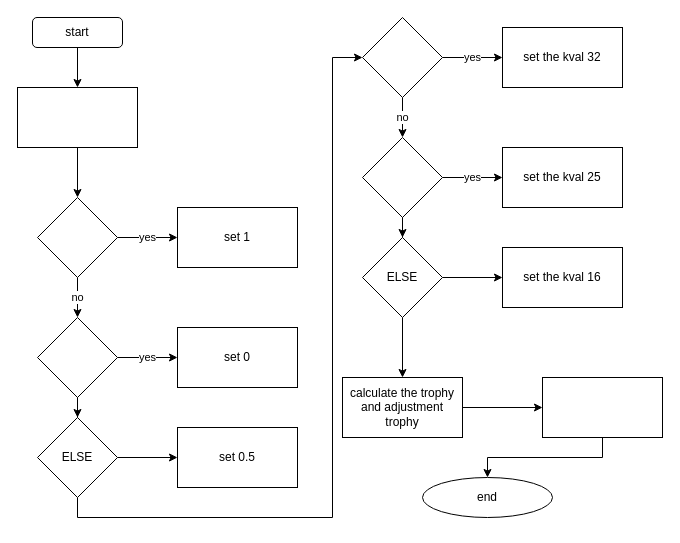
This 680x543 diagram has some shape labels left out. The centre of each missing label's shape, as x and y in pixels:
calcualted the expected score: point (77, 117)
ELSE IF arenal leve 6 to 10: point (402, 177)
ELSE IF scenario is lose: point (77, 357)
IF arenaleve 1 to 5: point (402, 57)
IF scenario is win: point (77, 237)
return trophy: point (602, 407)
